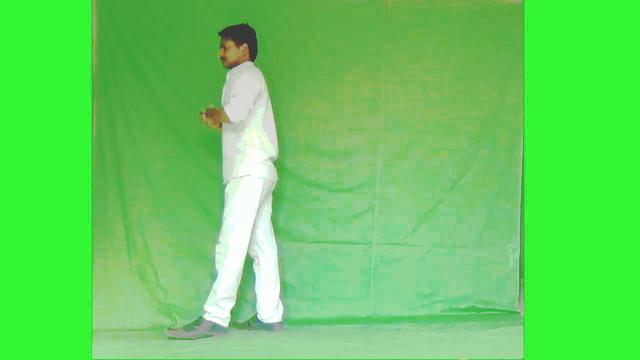berjalan: (164, 17, 286, 340)
